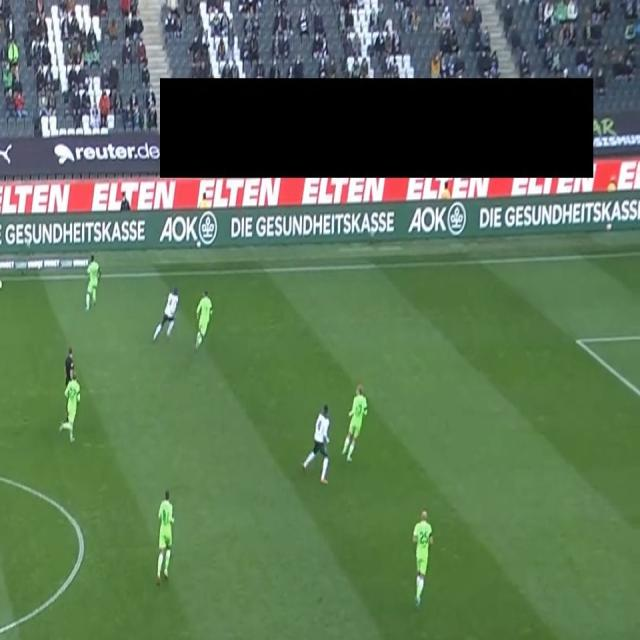ball: (0, 277, 3, 290)
